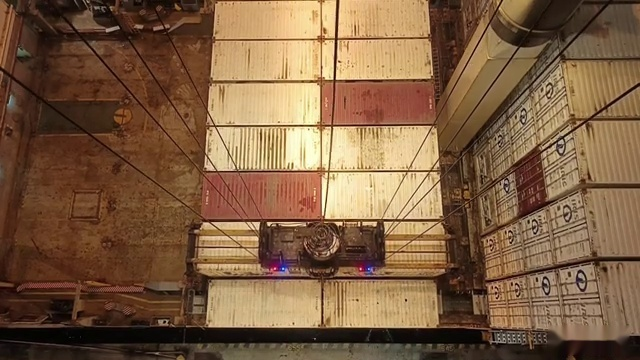container: (194, 223, 448, 281), (197, 174, 446, 221), (204, 283, 439, 330), (203, 127, 440, 173), (206, 84, 437, 128), (210, 41, 434, 83), (212, 0, 436, 39)
guide_mark: (62, 345, 561, 360), (97, 345, 541, 357)
spreader: (180, 211, 469, 283)
target_slot: (192, 220, 448, 279)
